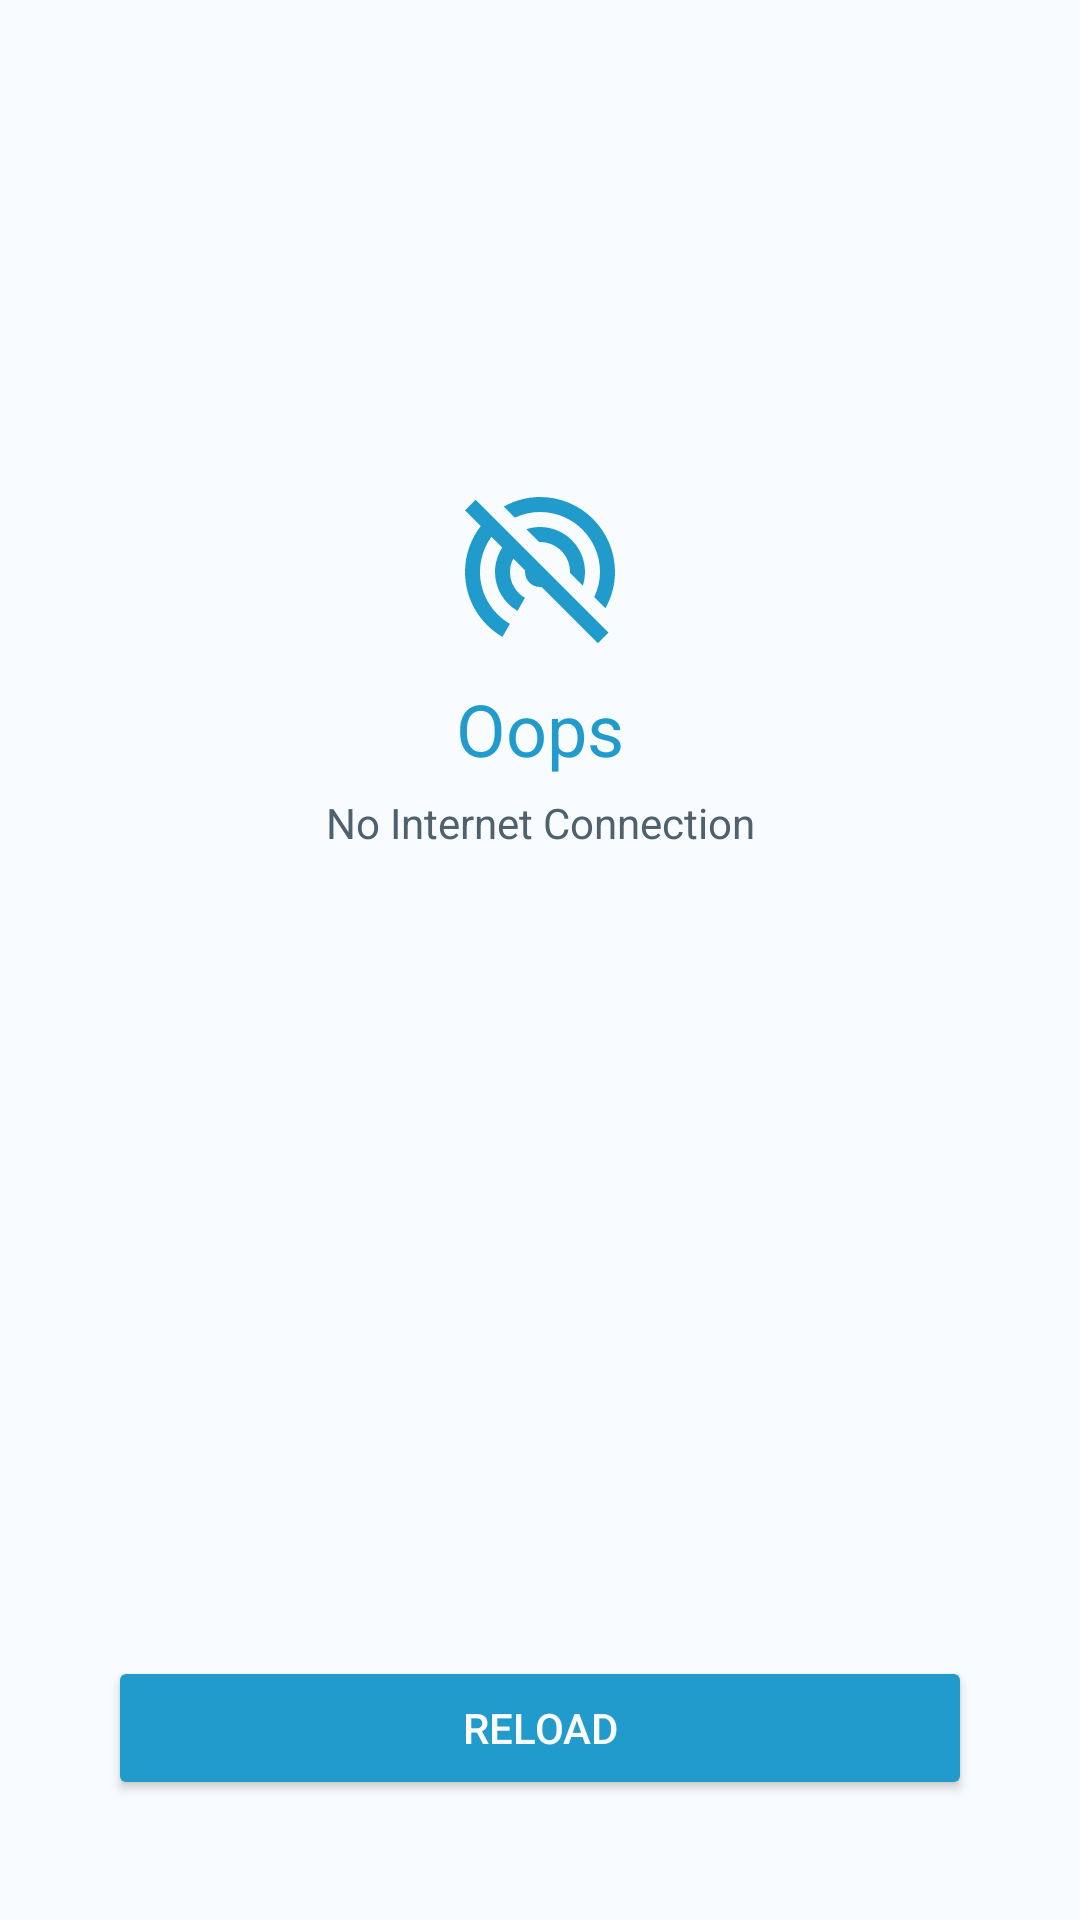

Screen size 1080px×1920px. Icon name, then its center in pixels as point (x, y):
no network: point (540, 570)
